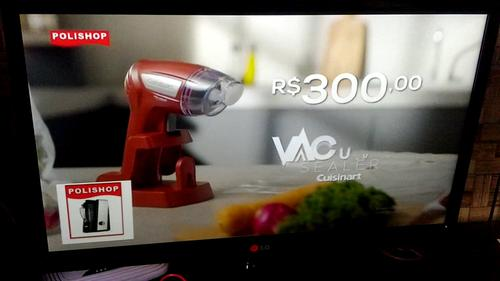Polishop #1: (56, 180, 134, 244)
